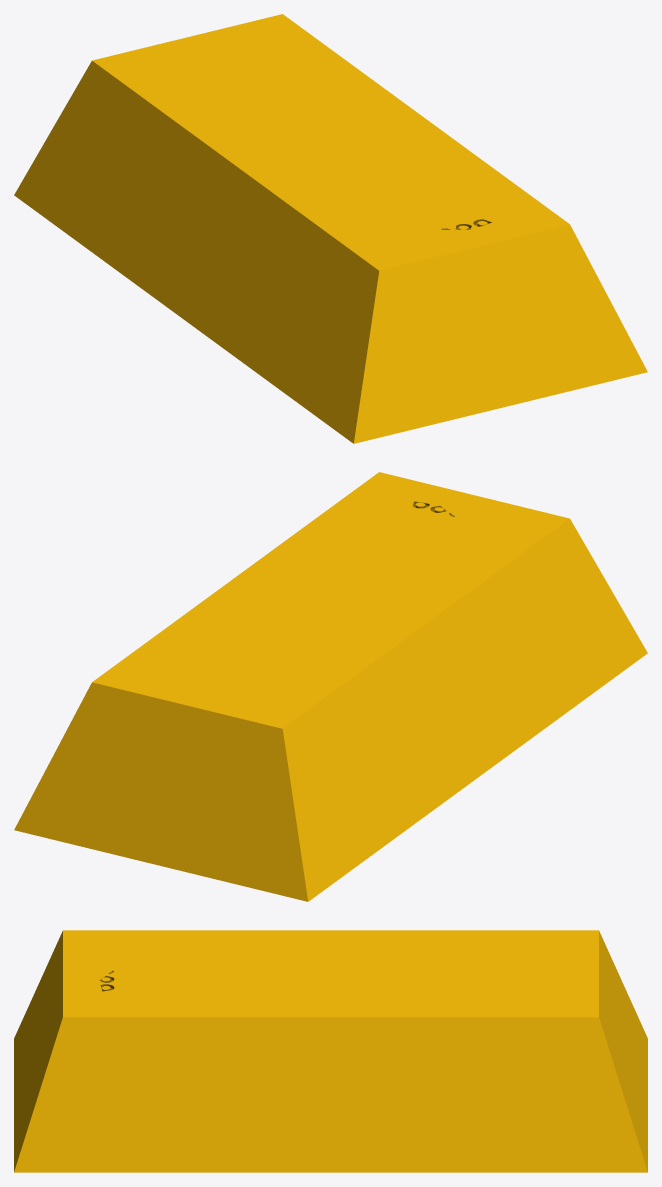
File: GoldBaren.fbx
3 renders of one model, top to bottom at view 1: azimuth 30°, elevation 25°; view 2: azimuth 150°, elevation 25°; view 3: azimuth 270°, elevation 25°, orthographic. The views are drawn at different scales.
Parts seen in each view (by area): view 1: GoldBare; view 2: GoldBare; view 3: GoldBare.
Boxes of the visible parts, x1=… form: GoldBare: x1=14, y1=14, x2=647, y2=443; GoldBare: x1=14, y1=472, x2=647, y2=901; GoldBare: x1=14, y1=930, x2=647, y2=1172.
Bounding box in the file's own units: 100 × 45.89 × 200.
